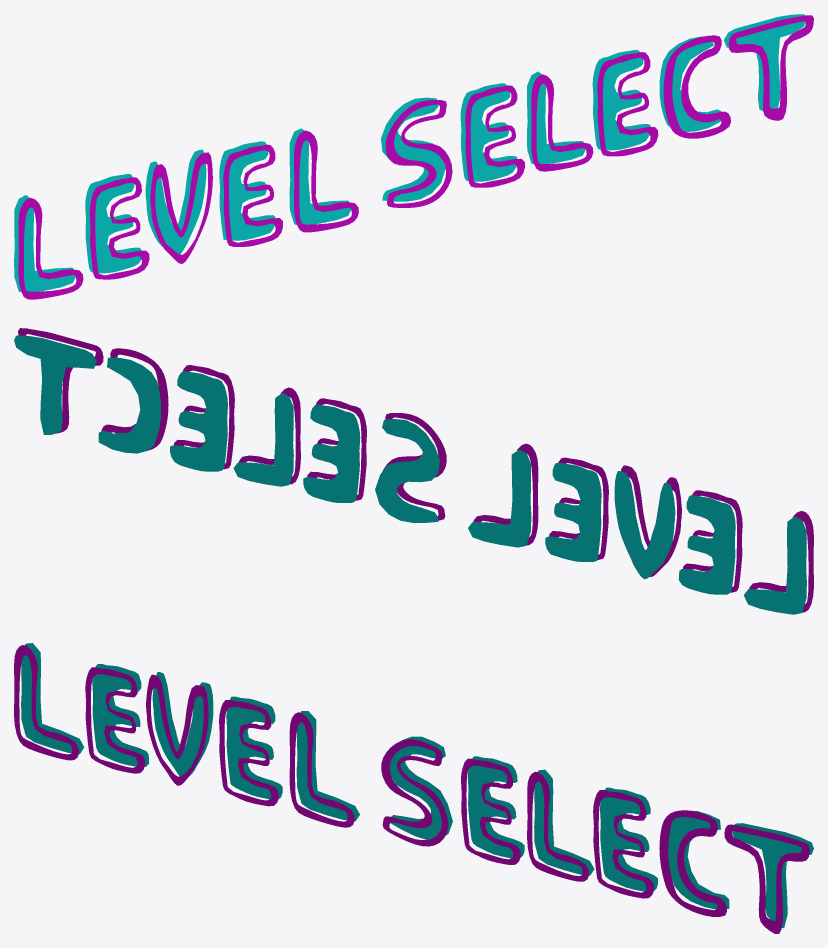
File: mesh_text_levelselect.fbx
The picture shows the model from 3 angles, top to bottom: view 1: azimuth 30°, elevation 25°; view 2: azimuth 150°, elevation 25°; view 3: azimuth 330°, elevation 25°; orthographic projection.
Parts seen in each view (by area): view 1: mesh_text_levelselect, mesh_text_levelselect1; view 2: mesh_text_levelselect, mesh_text_levelselect1; view 3: mesh_text_levelselect, mesh_text_levelselect1.
Boxes of the visible parts, left/top/right/bottom form: mesh_text_levelselect: left=14, top=14, right=805, bottom=291; mesh_text_levelselect1: left=18, top=15, right=813, bottom=299; mesh_text_levelselect: left=14, top=335, right=806, bottom=614; mesh_text_levelselect1: left=18, top=328, right=813, bottom=612; mesh_text_levelselect: left=21, top=643, right=813, bottom=928; mesh_text_levelselect1: left=14, top=645, right=809, bottom=933.
Bounding box in the file's own units: 0.1701 × 0.0221 × 0.00212.
